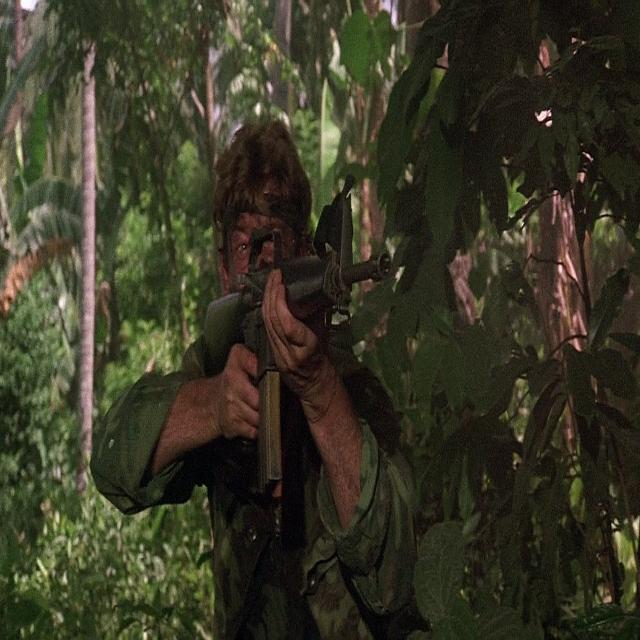gun-knife-thesis - v11 Yolov5 augmented: (195, 239, 402, 492)
